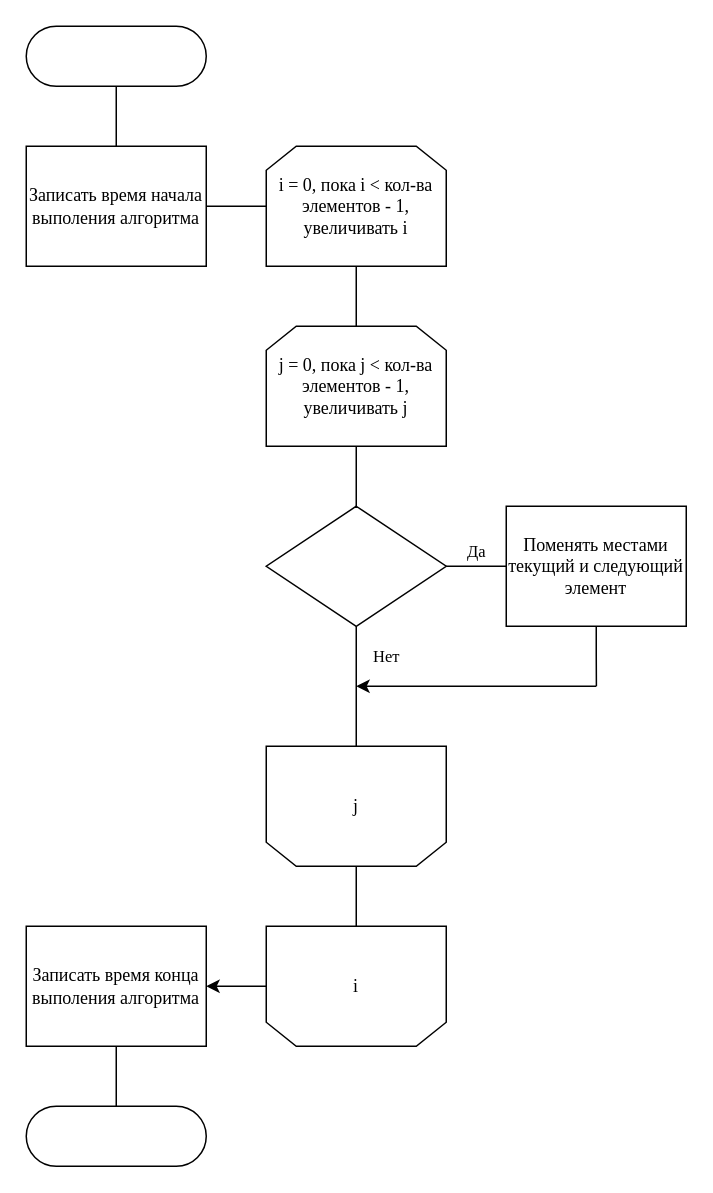
The diagram is 713 pixels wide and 1193 high, and some of its shapes have lost their labels. The shapes that lost their labels are listed below. From the top down, each one's centre as x and y in pixels, then its label:
At [115,55]: "bubble_sort(массив, длина массива)".
At [355,565]: "Если текущий элемент больше следующего".
At [115,1135]: "Вернуть массив".
